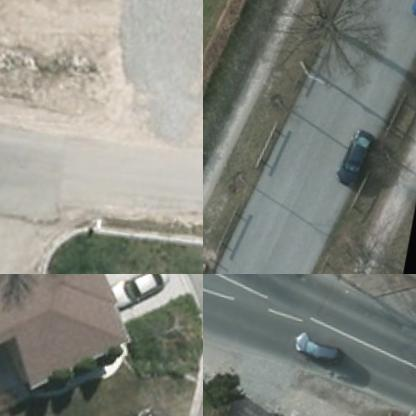car: (98, 274, 169, 318), (334, 134, 376, 192), (287, 329, 342, 371), (190, 307, 202, 378)
